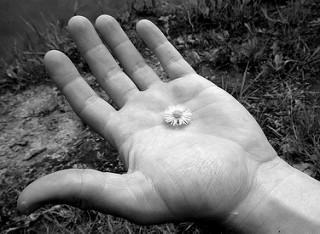palm: (119, 85, 263, 214)
